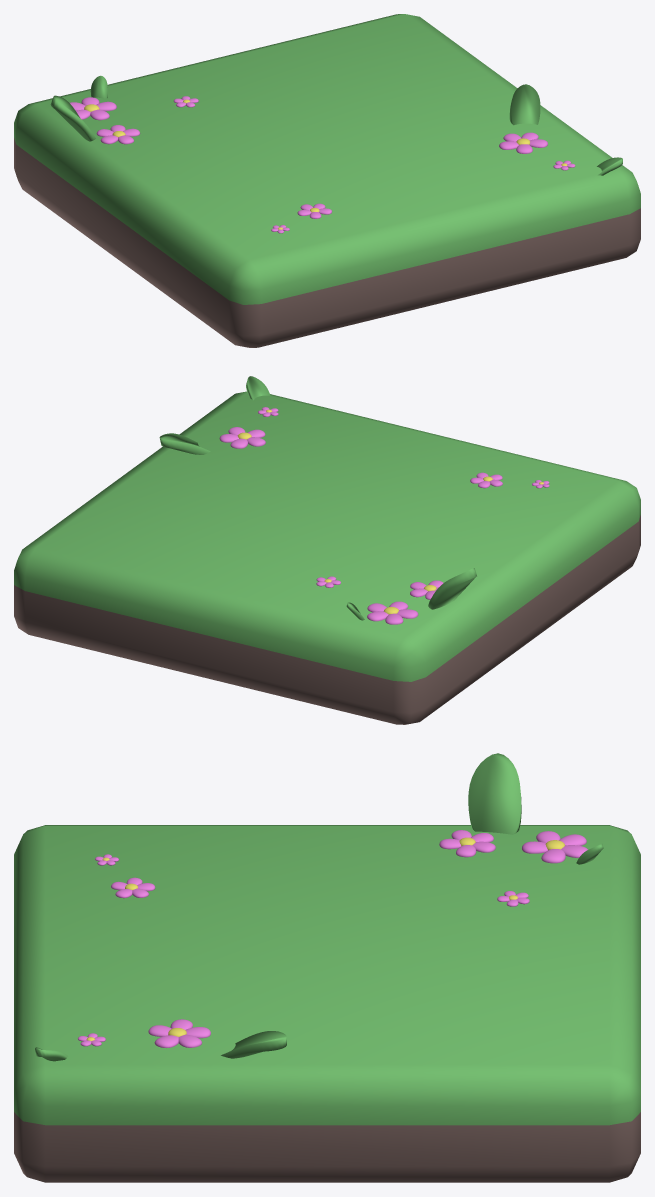
File: grassfloor.fbx
3 views of the same model, one above another, from view 1: azimuth 30°, elevation 25°; view 2: azimuth 150°, elevation 25°; view 3: azimuth 270°, elevation 25° (orthographic). The views are drawn at different scales.
Visible parts, largest first — view 1: Struikk.001; view 2: Struikk.001; view 3: Struikk.001.
Boxes of the visible parts, box(x1,y1,x2,y2) form: Struikk.001: box(14, 14, 640, 347); Struikk.001: box(14, 376, 640, 724); Struikk.001: box(14, 753, 640, 1182).
Size of the model in its own units: 102 by 30.62 by 100.
